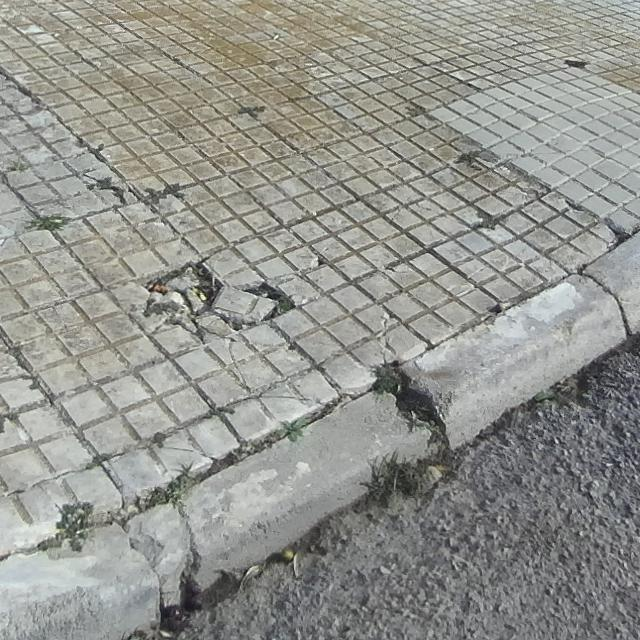calcada_quebrada: (198, 323, 251, 397), (145, 443, 217, 462), (257, 393, 326, 406)
